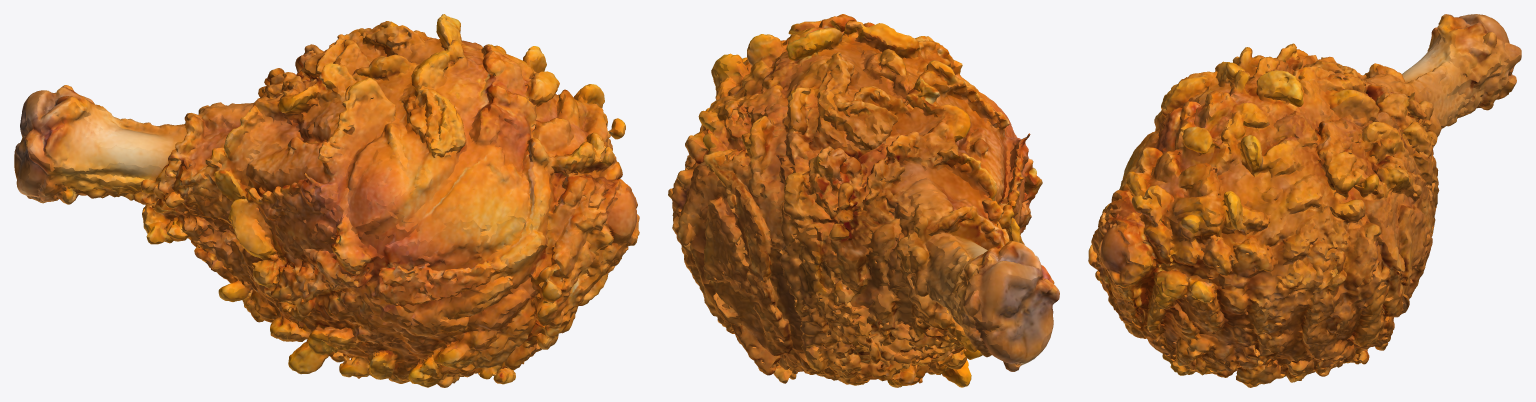
3 views of the same model, side by side, from view 1: azimuth 30°, elevation 25°; view 2: azimuth 150°, elevation 25°; view 3: azimuth 270°, elevation 25° (orthographic). The views are drawn at different scales.
Visible parts, largest first — view 1: FoodRedoV2Alignment-0; view 2: FoodRedoV2Alignment-0; view 3: FoodRedoV2Alignment-0.
Boxes of the visible parts, bbox=[...] form: FoodRedoV2Alignment-0: bbox=[14, 14, 639, 387]; FoodRedoV2Alignment-0: bbox=[668, 14, 1059, 387]; FoodRedoV2Alignment-0: bbox=[1088, 14, 1521, 387].
Size of the model in its own units: 0.1318 by 0.0919 by 0.1166.
Materials: 1 (1 with a texture image).
